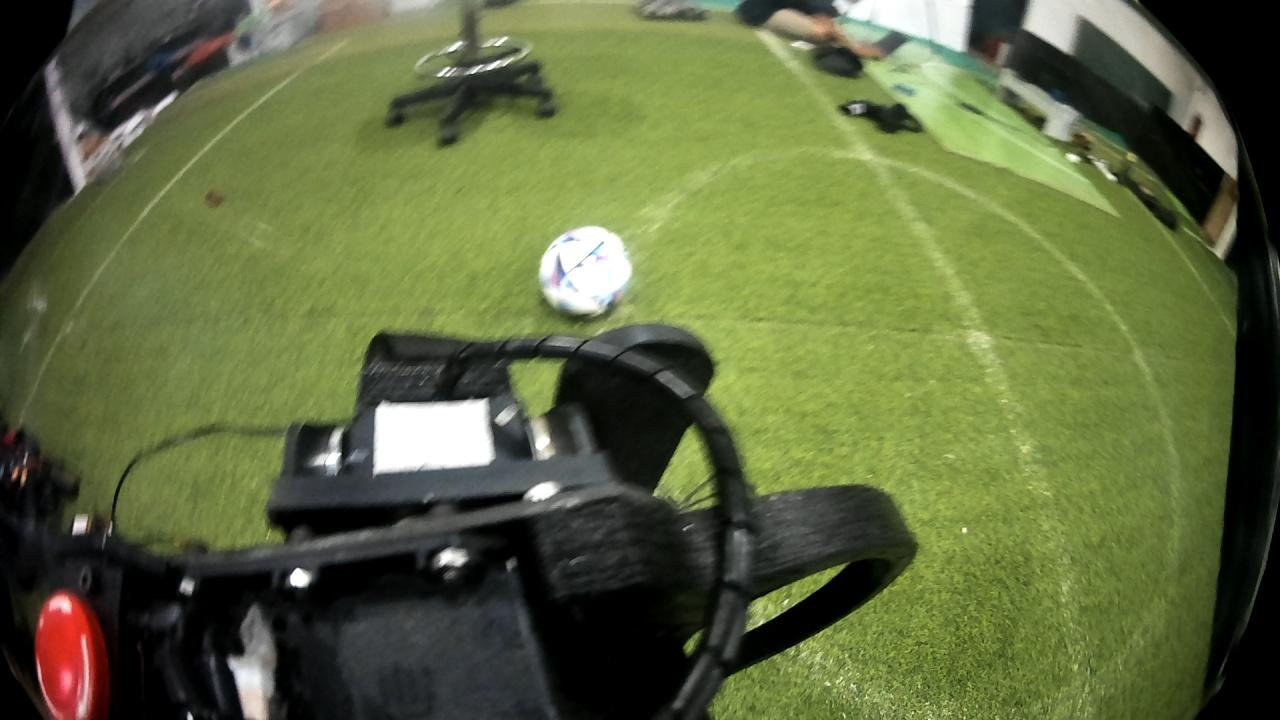ball: (533, 222, 639, 322)
